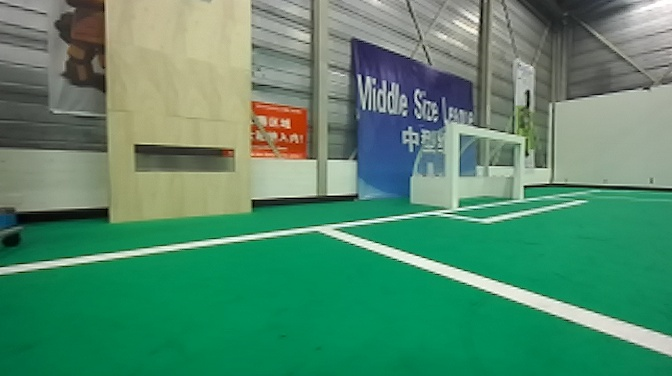goalpost: (440, 113, 466, 212), (507, 130, 531, 210)
